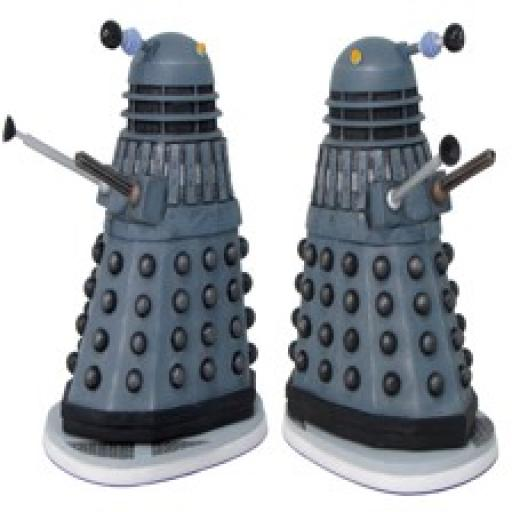dalek: (0, 16, 256, 441), (284, 19, 484, 451)
